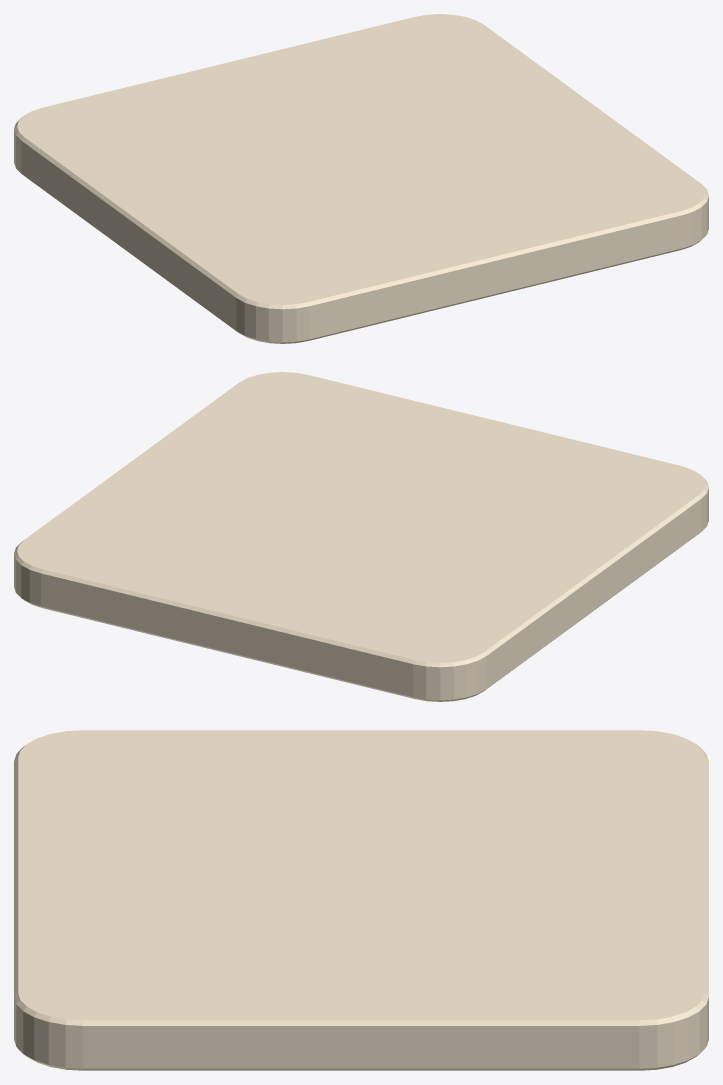
The picture shows the model from 3 angles, top to bottom: view 1: azimuth 30°, elevation 25°; view 2: azimuth 150°, elevation 25°; view 3: azimuth 270°, elevation 25°; orthographic projection. The views are drawn at different scales.
Visible parts, largest first — view 1: COM-01 Rounded Base Direct; view 2: COM-01 Rounded Base Direct; view 3: COM-01 Rounded Base Direct.
Part boxes in pixels (x1,y1,x2,y2): COM-01 Rounded Base Direct: [14, 14, 708, 343]; COM-01 Rounded Base Direct: [14, 372, 708, 701]; COM-01 Rounded Base Direct: [14, 730, 708, 1070].
Bounding box in the file's own units: 2 × 0.16 × 2.
Materials: 1 (1 with a texture image).
